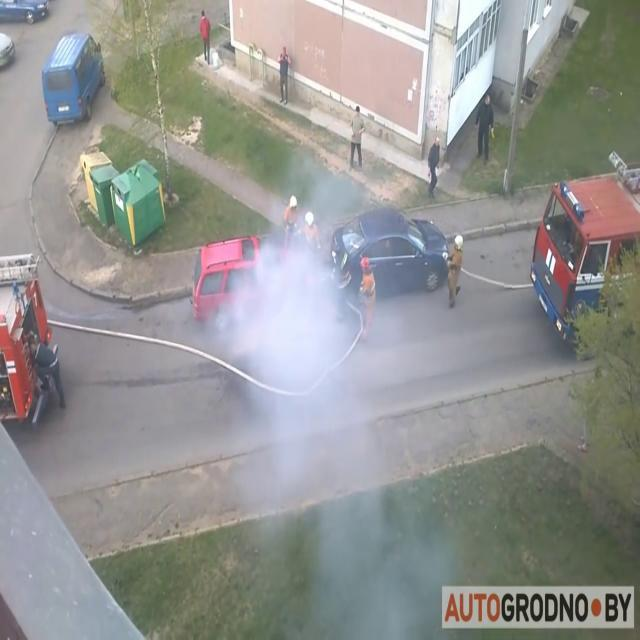Smoke: (206, 158, 454, 638)
